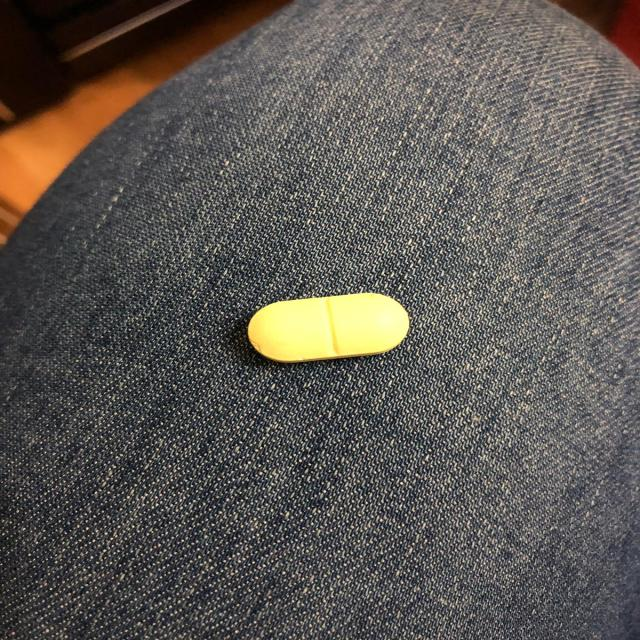pills: (237, 278, 423, 372)
